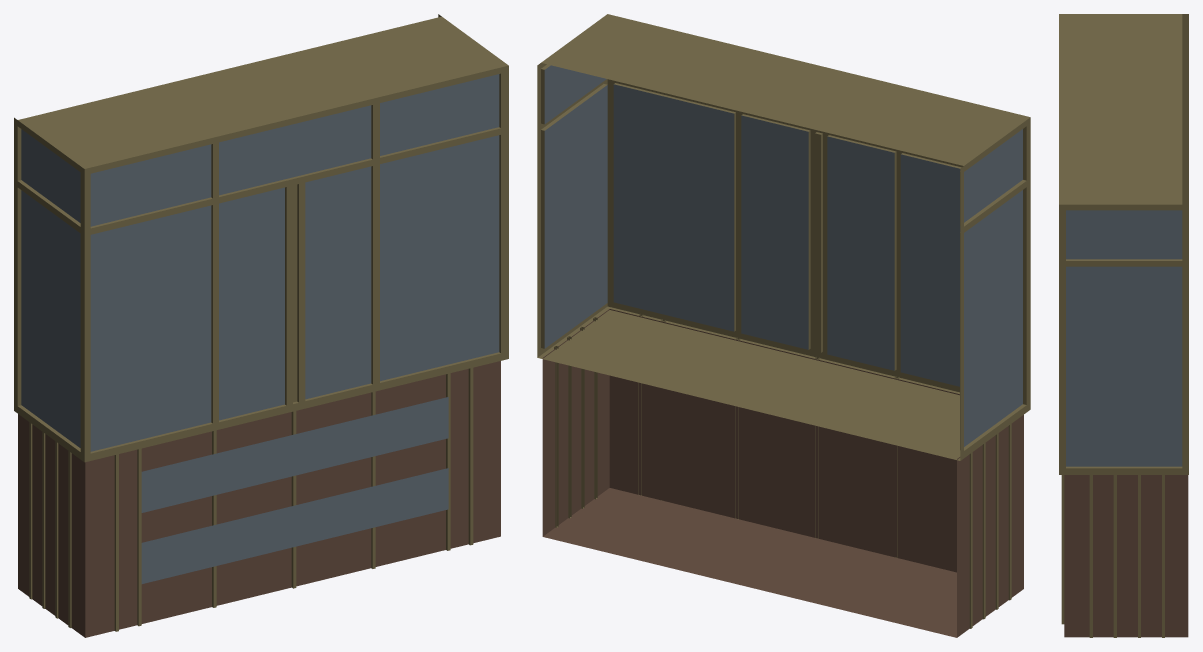
The model's file is OldZakritiy2.fbx.
3 views of the same model, side by side, from view 1: azimuth 30°, elevation 25°; view 2: azimuth 150°, elevation 25°; view 3: azimuth 270°, elevation 25° (orthographic). The views are drawn at different scales.
Parts seen in each view (by area): view 1: Plane.003; view 2: Plane.003; view 3: Plane.003.
Boxes of the visible parts, x1,y1,x2,y2 form: Plane.003: (14, 14, 508, 637); Plane.003: (537, 14, 1030, 637); Plane.003: (1059, 14, 1188, 637).
Size of the model in its own units: 6.84 by 1.97 by 7.27.
